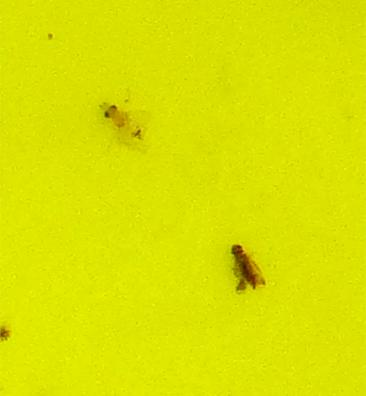Brachycera: (100, 100, 145, 141)
Hemiptera: (225, 241, 266, 296)
